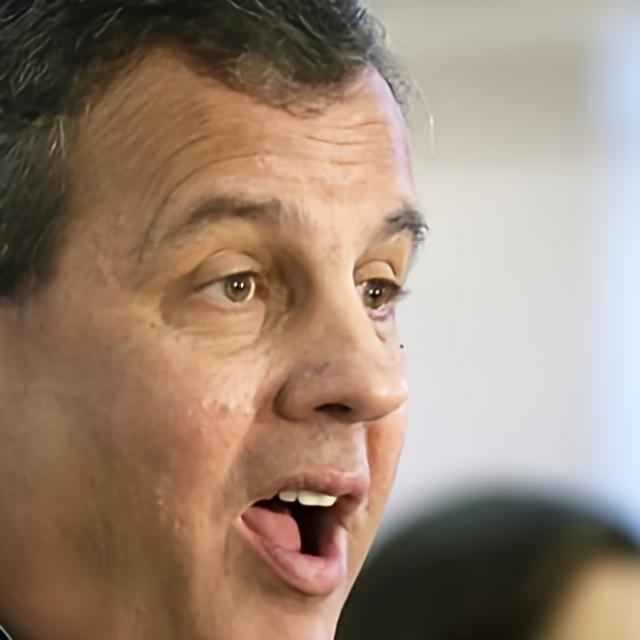surprise: (0, 35, 428, 640)
